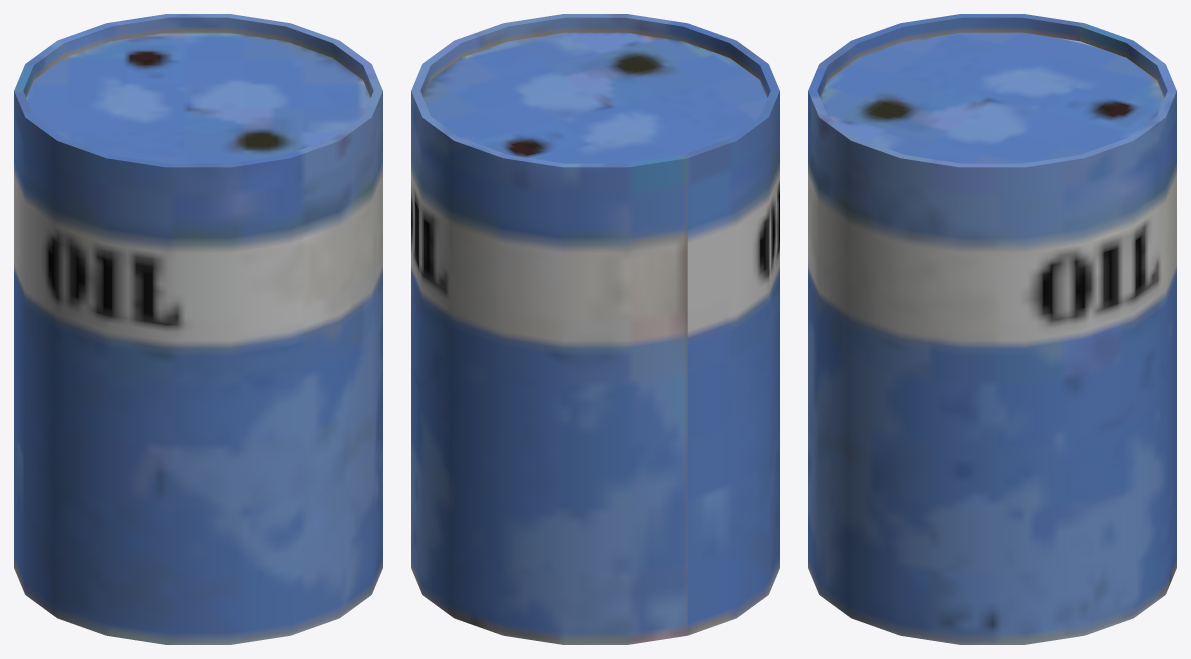
Rendered from Barrel2.fbx.
3 renders of one model, left to right at view 1: azimuth 30°, elevation 25°; view 2: azimuth 150°, elevation 25°; view 3: azimuth 270°, elevation 25°, orthographic.
Visible parts, largest first — view 1: Barrel3; view 2: Barrel3; view 3: Barrel3.
Part boxes in pixels (x1,y1,x2,y2): Barrel3: (14,14,382,644); Barrel3: (411,14,779,644); Barrel3: (808,14,1176,644).
Bounding box in the file's own units: 11.44 × 16.59 × 11.61.
1 material, 1 textured.
